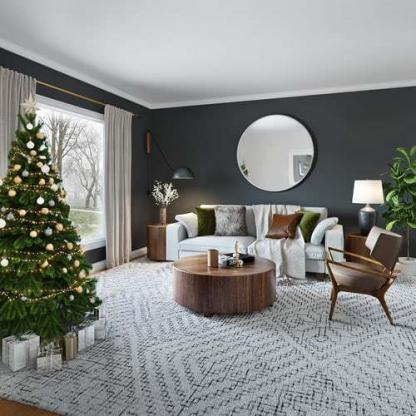present: (8, 326, 38, 385), (28, 349, 74, 382), (64, 322, 103, 360)
x_mas tree: (0, 91, 99, 326)
